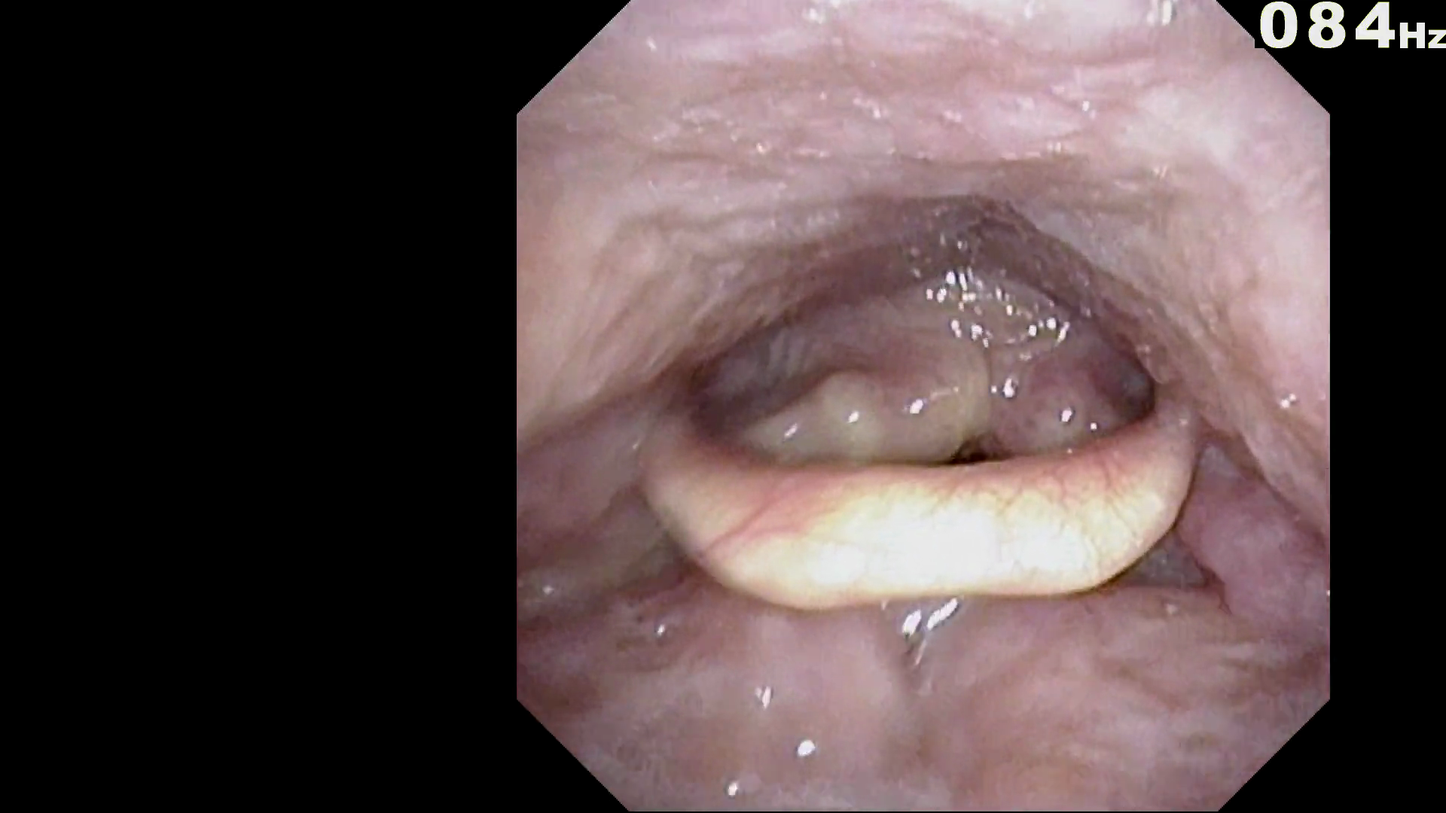epiglottis: (623, 349, 1220, 643)
trachea: (940, 404, 1024, 495)
